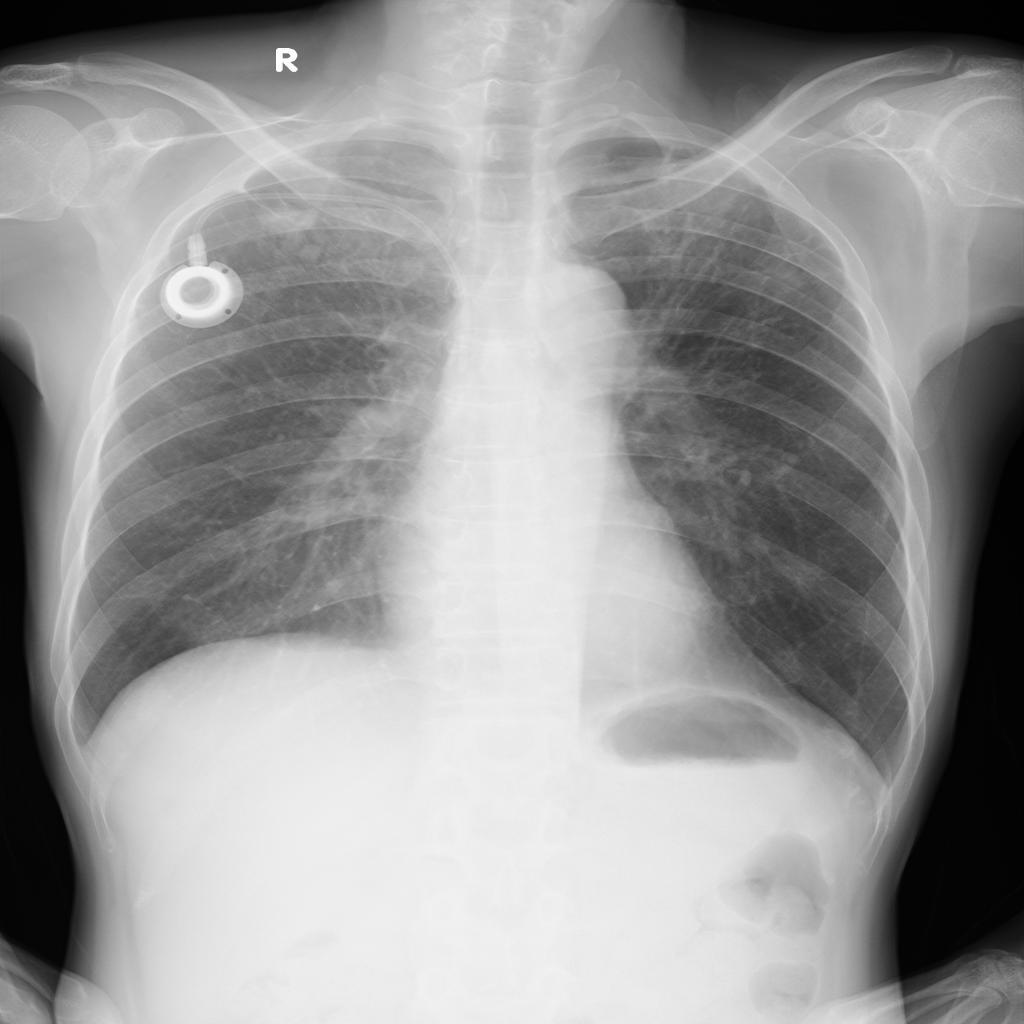Nodule: (258, 205, 314, 233), (297, 243, 320, 262)
